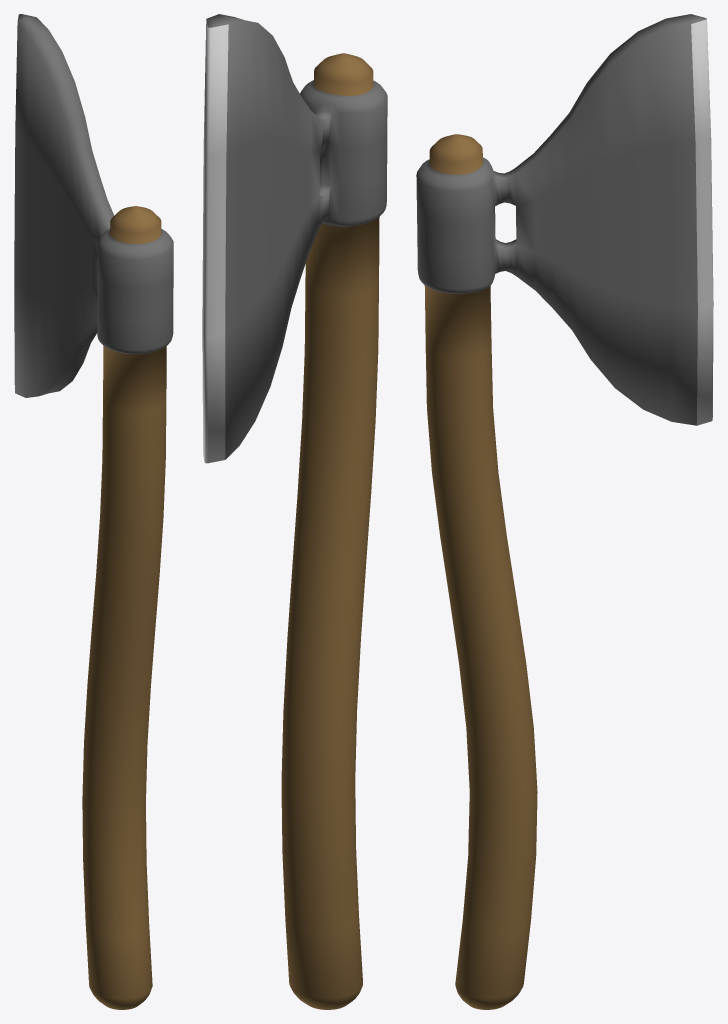
The model's file is axe.fbx.
3 renders of one model, left to right at view 1: azimuth 30°, elevation 25°; view 2: azimuth 150°, elevation 25°; view 3: azimuth 270°, elevation 25°, orthographic. The views are drawn at different scales.
Visible parts, largest first — view 1: Circle; view 2: Circle; view 3: Circle.
Boxes of the visible parts, <box> form: Circle: <box>14,14,173,1009</box>; Circle: <box>202,14,387,1009</box>; Circle: <box>416,14,713,1009</box>.
Size of the model in its own units: 2.39 by 31.79 by 8.66.
